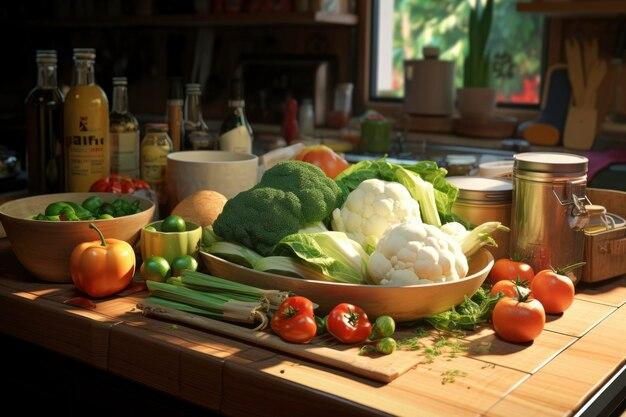apple: (327, 304, 374, 343)
brocolli: (228, 158, 340, 241)
cauliflower: (350, 176, 491, 290)
tomato: (490, 246, 575, 348)
